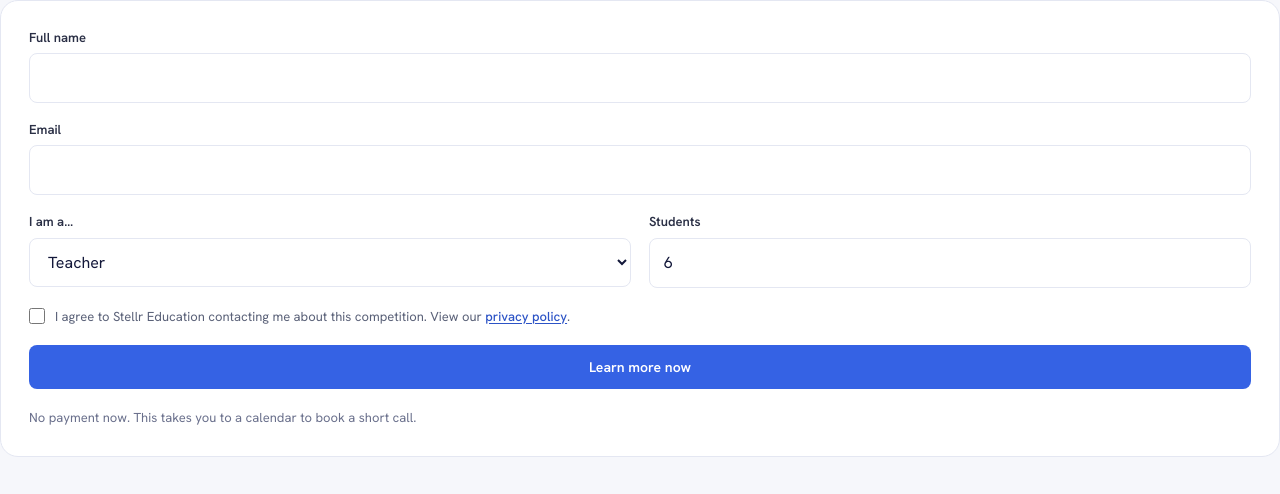
it: LeadForm booking hand-off › blocks submission until consent is given, and posts nothing
Type "Alex Whitfield" into the field labelled "Full name" at [640, 78], box [29,53,1251,103]
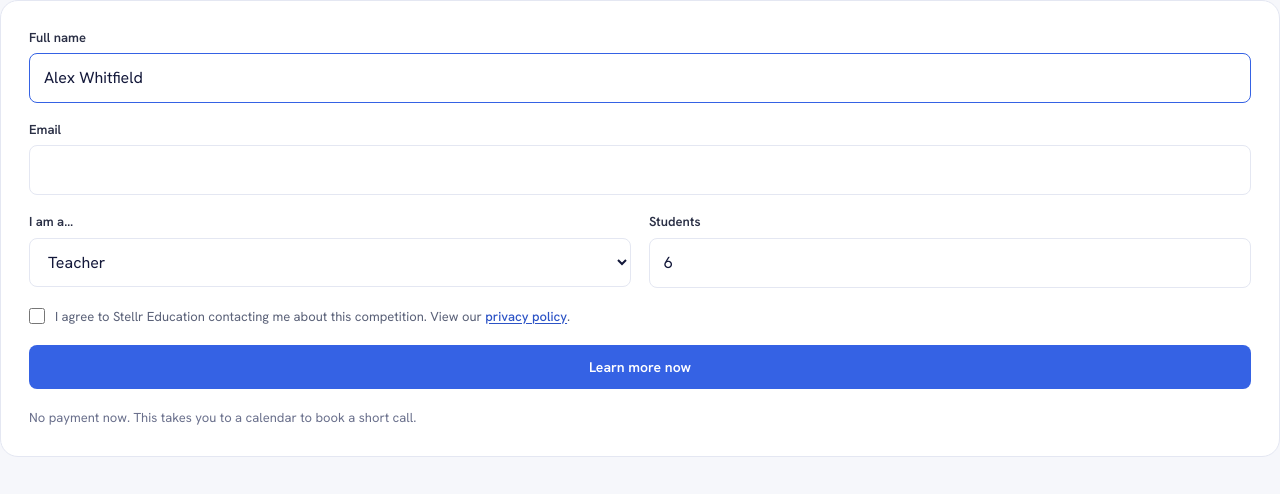
Type "alex@example.org" into the field labelled "Email" at [640, 170], box [29,145,1251,195]
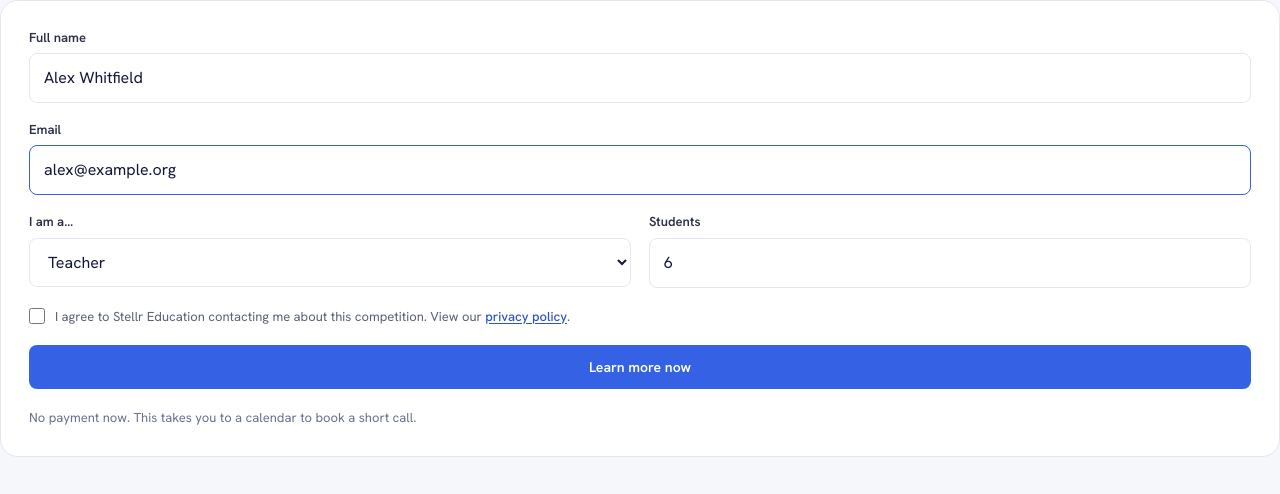
Click the button "Learn more now" at [640, 367], box [29,345,1251,389]
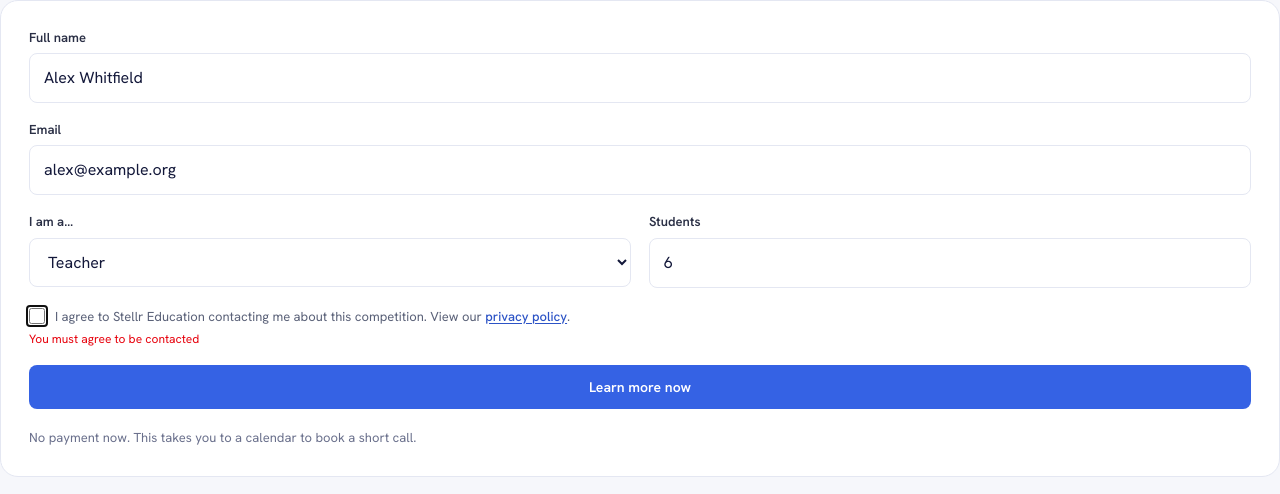
Check: the text "You must agree to be contacted" is shown, box [29,331,199,347]
